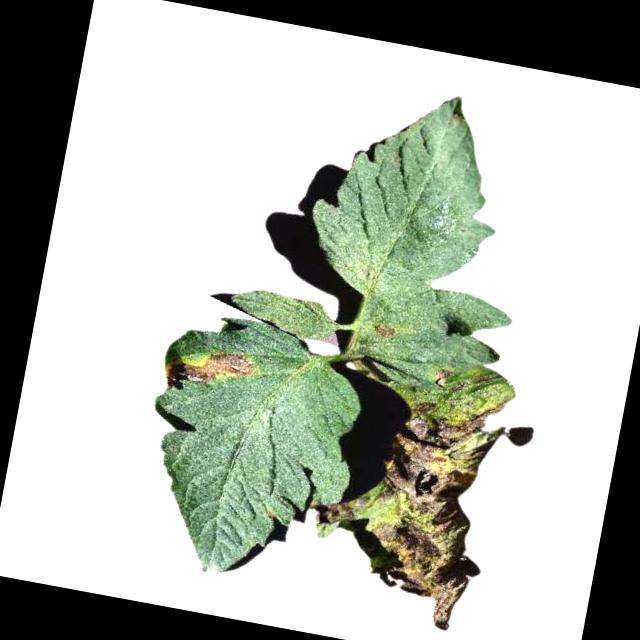Early_blight: (292, 350, 515, 636), (155, 335, 261, 409), (371, 323, 396, 340)
